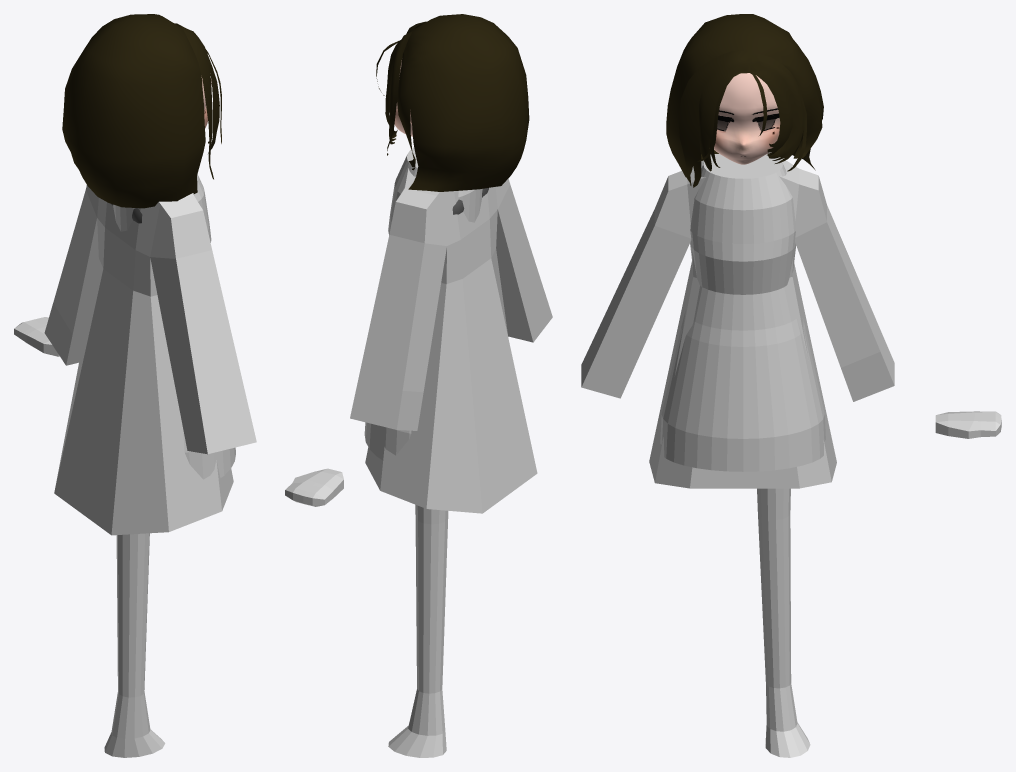
File: MainChar.fbx
3 views of the same model, side by side, from view 1: azimuth 30°, elevation 25°; view 2: azimuth 150°, elevation 25°; view 3: azimuth 270°, elevation 25° (orthographic). The views are drawn at different scales.
Visible parts, largest first — view 1: Cube, Hair, Leg, Coat, Bangs, Cube.001; view 2: Cube, Hair, Leg, Coat, Cube.001, Bangs; view 3: Coat, Cube, Leg, Bangs, Hair, Head, Cube.001.
Boxes of the visible parts, x1,y1,x2,y2 form: Cube: (44,185,256,535); Hair: (62,14,205,208); Leg: (104,533,165,757); Coat: (113,174,235,479); Bangs: (174,23,221,179); Cube.001: (14,317,59,356); Cube: (350,168,552,513); Hair: (397,14,529,191); Leg: (388,504,448,757); Coat: (364,147,482,460); Cube.001: (285,468,343,506); Bangs: (376,21,426,155); Coat: (660,154,825,471); Cube: (581,154,894,488); Leg: (757,488,810,757); Bangs: (678,50,806,187); Hair: (666,14,823,185); Head: (714,73,780,164); Cube.001: (935,411,1001,438).
Bounding box in the file's own units: 55.34 × 266 × 141.
3 materials, 1 textured.
